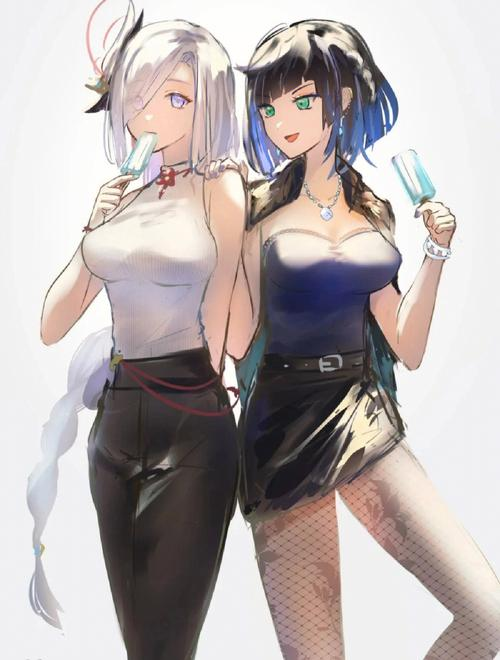夜兰: (236, 21, 500, 658)
